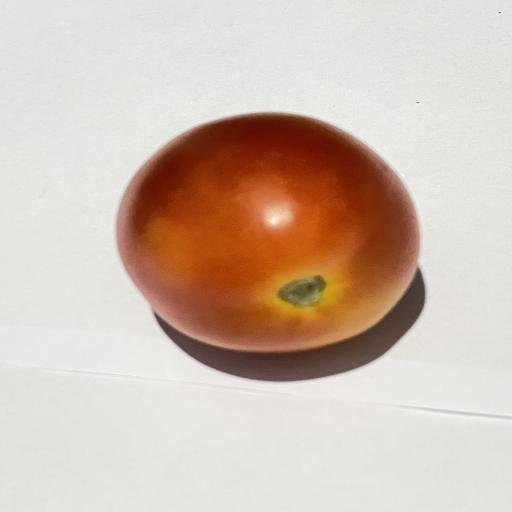ripe: (117, 113, 420, 352)
